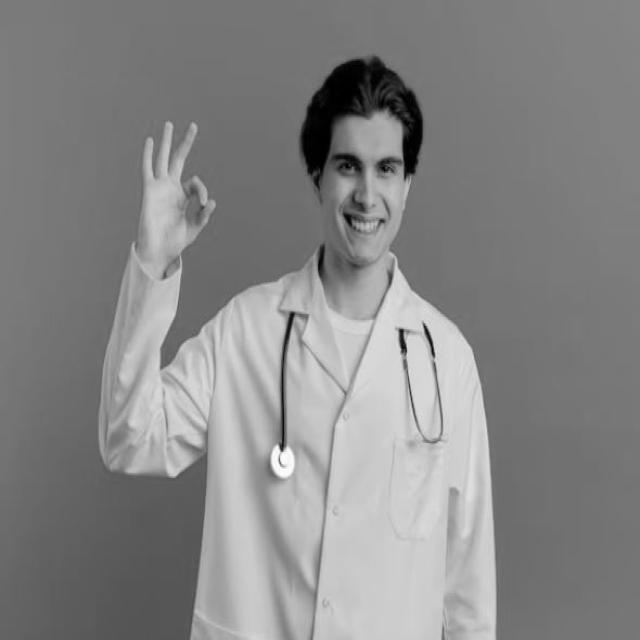perfect: (135, 116, 219, 265)
